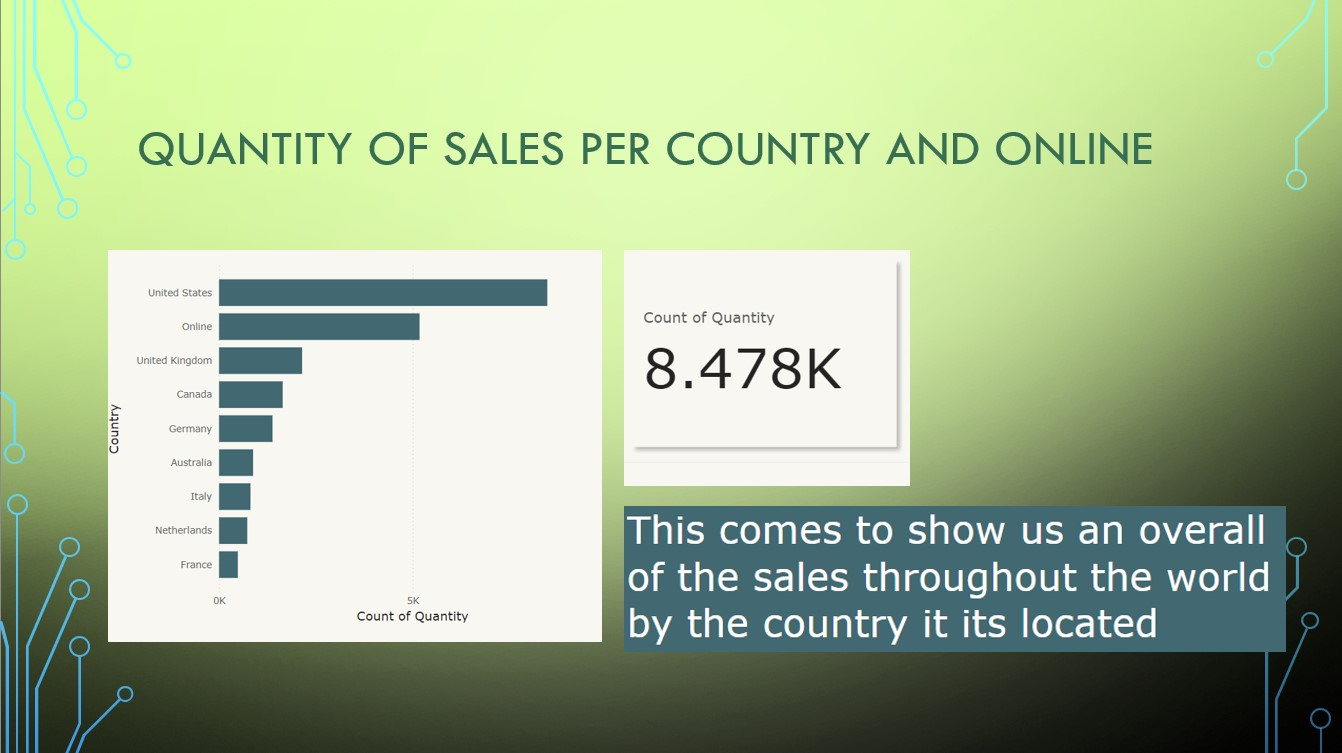

What the dashboard file says about the page in this screenshot:
{"tool":"powerbi","page":{"name":"Top Country seller","canvas":[1280,720],"ordinal":0},"visuals":[{"type":"barChart","fields":{"Category":["Stores.Country"],"Y":["CountNonNull(Sales.Quantity)"]},"box":[0,70,654.1,472.2],"z":0},{"type":"cardVisual","fields":{"Data":["CountNonNull(Sales.Quantity)"]},"box":[640.3,70.2,321.6,237.2],"z":1000},{"type":"shape","box":[640.1,374.9,567.2,134.3],"z":1500},{"type":"textbox","box":[640.3,374.7,567.3,167.9],"z":2000}]}

Visuals, with their boxes in screenshot pixels (x1, y1, x2, y2), scaled from the page's 1280x720 canvas onto the 1342x753 screenshot:
barChart - Stores.Country x CountNonNull(Sales.Quantity): bbox(0, 73, 686, 567)
cardVisual - CountNonNull(Sales.Quantity): bbox(671, 73, 1008, 321)
shape: bbox(671, 392, 1266, 533)
textbox: bbox(671, 392, 1266, 567)
